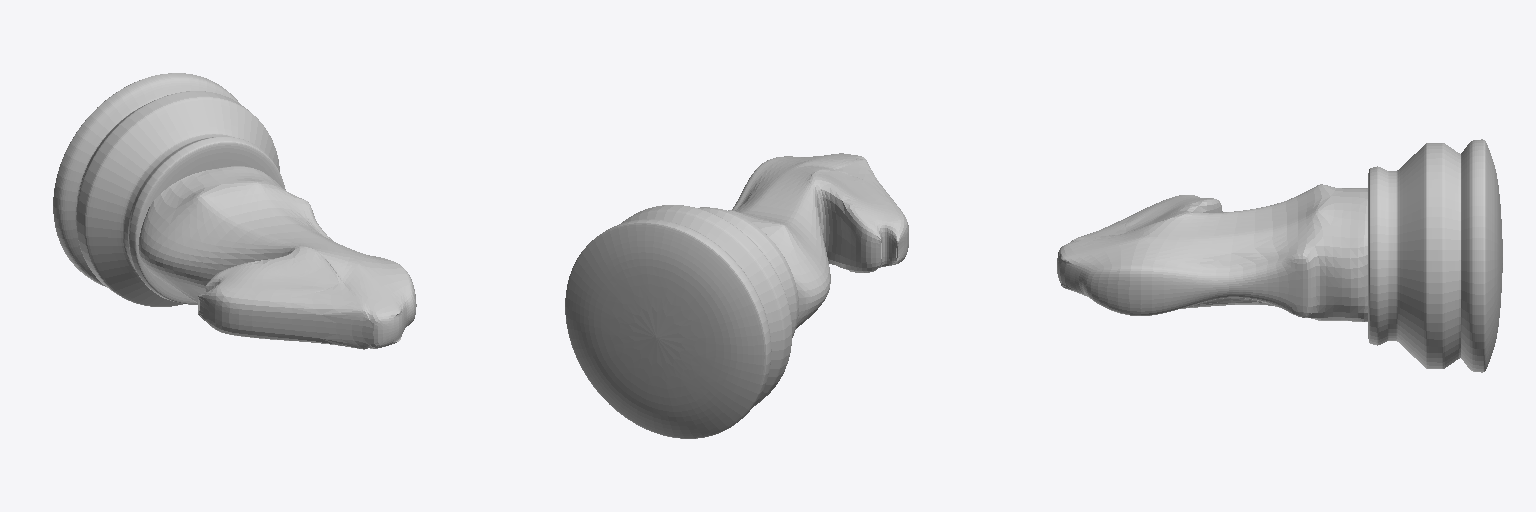
File: knight2.obj
The picture shows the model from 3 angles: view 1: azimuth 30°, elevation 25°; view 2: azimuth 150°, elevation 25°; view 3: azimuth 270°, elevation 25°; orthographic projection.
Parts seen in each view (by area): view 1: Cube.001, Cube; view 2: Cube, Cube.001; view 3: Cube.001, Cube.
Part boxes in pixels (bbox=[...]): Cube.001: bbox=[138, 166, 416, 349]; Cube: bbox=[53, 73, 285, 306]; Cube: bbox=[565, 205, 798, 438]; Cube.001: bbox=[728, 153, 908, 328]; Cube.001: bbox=[1057, 184, 1367, 321]; Cube: bbox=[1368, 139, 1502, 372].
Size of the model in its own units: 2 by 2 by 3.83.